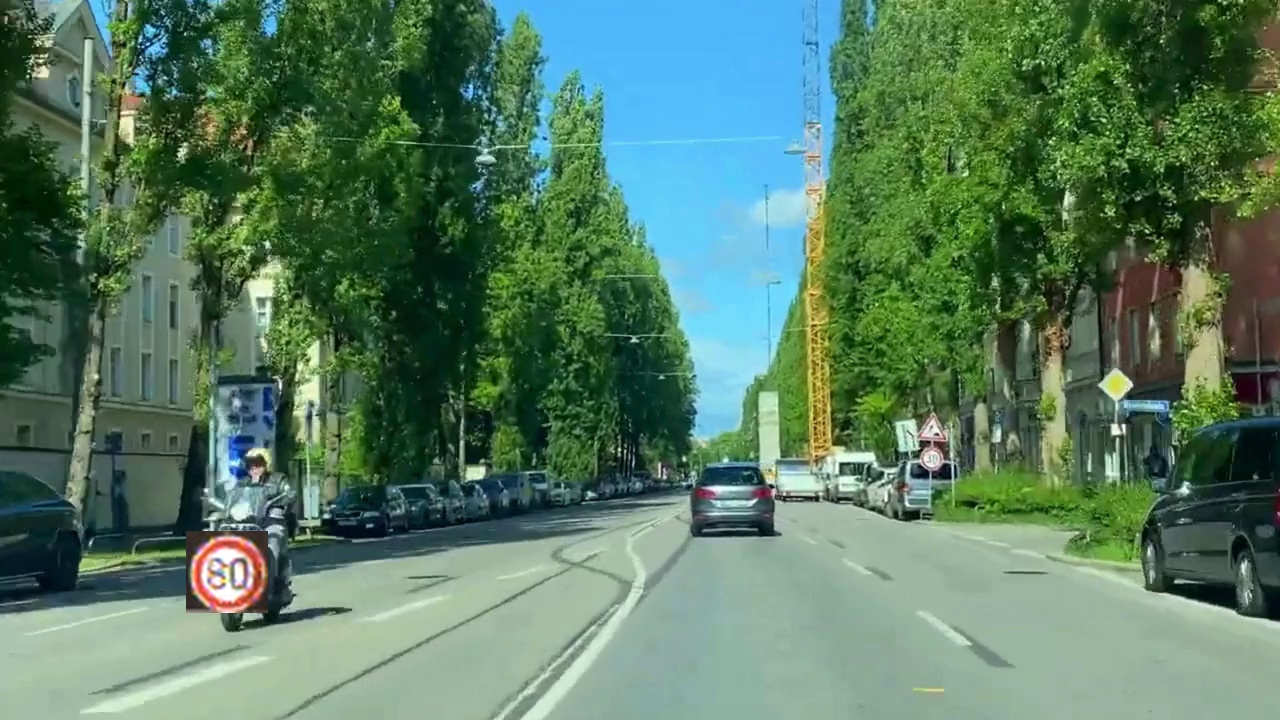Speed 80: (186, 531, 268, 613)
